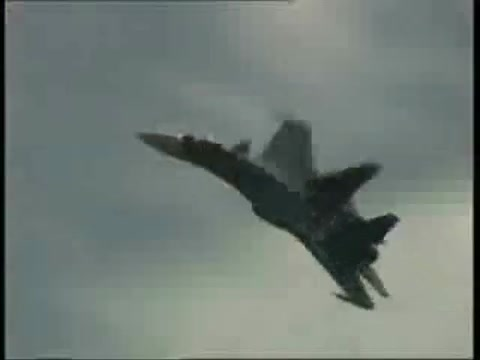aeroplane: (137, 118, 400, 312)
